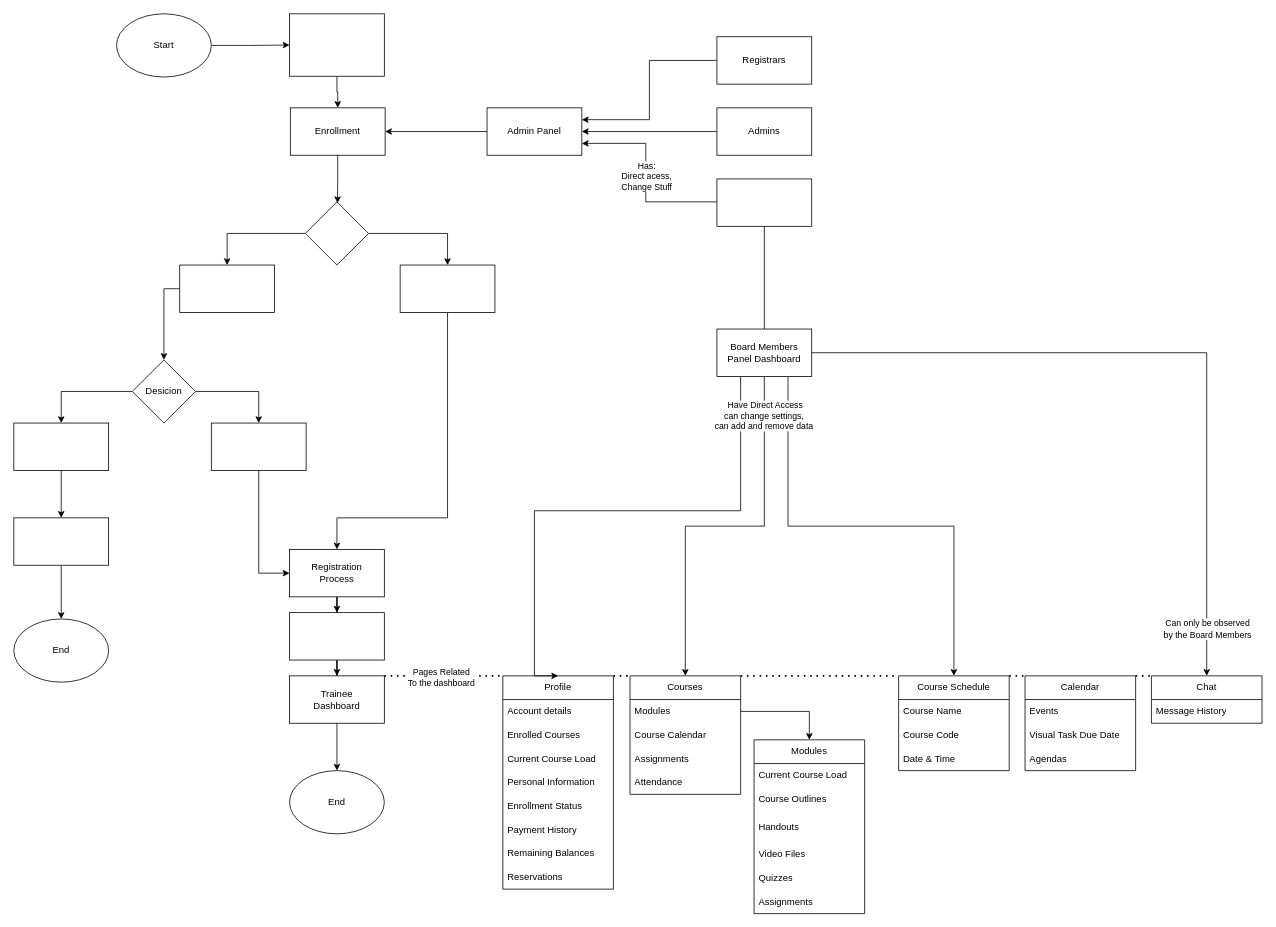
The diagram is 1276 pixels wide and 927 high, and some of its shapes have lost their labels. The centre of each missing label's shape, as x and y in pixels:
"Board Members" belongs at point (764, 202).
"Domain" belongs at point (336, 44).
"Enrolled" belongs at point (336, 636).
"Inquiry" belongs at point (337, 233).
"New Enrollment" belongs at point (227, 288).
"Old Student / Renewal" belongs at point (447, 288).
"Payment" belongs at point (258, 446).
"Reservation" belongs at point (61, 446).
"Reservation Process" belongs at point (61, 541).
